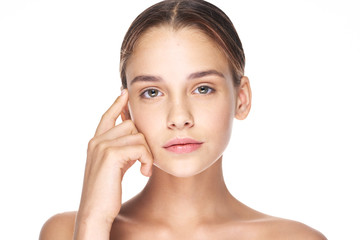teen: (108, 15, 247, 173)
